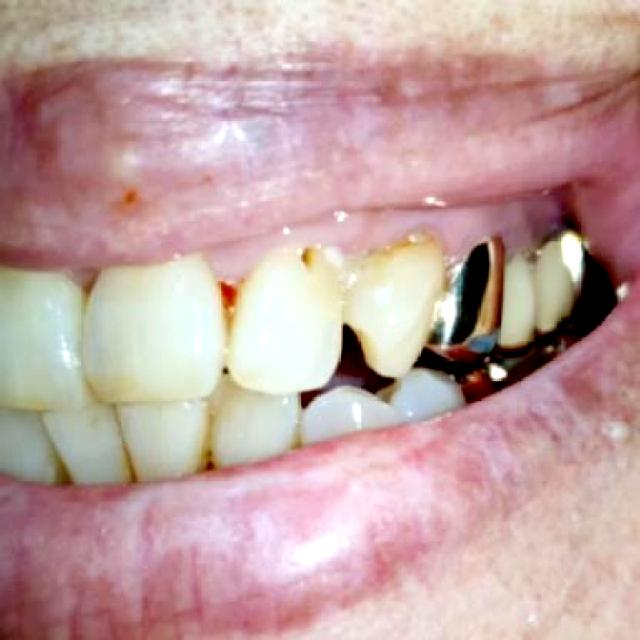Plaque: (385, 222, 439, 263), (291, 239, 328, 276)
